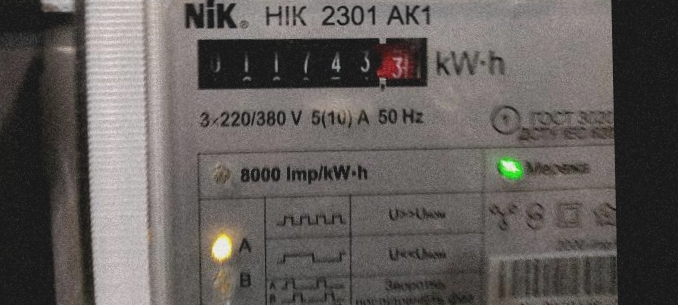0: (207, 47, 222, 75)
1: (268, 46, 281, 74), (239, 46, 250, 73)
3: (357, 47, 372, 74), (388, 55, 403, 80)
4: (327, 47, 342, 75)
7: (297, 45, 313, 73)
screen: (185, 23, 439, 103)
